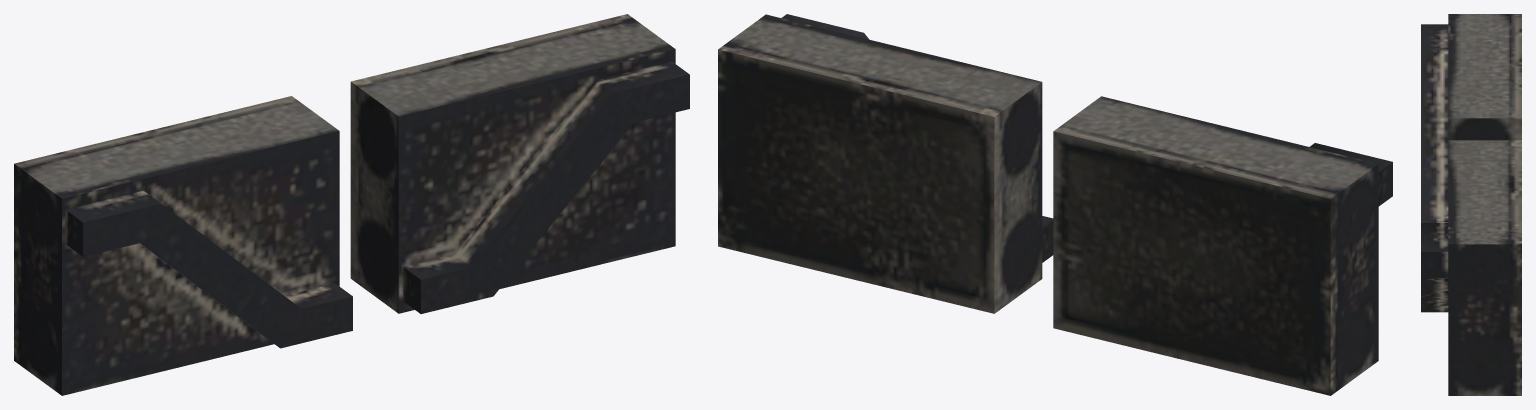
3 views of the same model, side by side, from view 1: azimuth 30°, elevation 25°; view 2: azimuth 150°, elevation 25°; view 3: azimuth 270°, elevation 25° (orthographic). The views are drawn at different scales.
Parts seen in each view (by area): view 1: set_0_group_0; view 2: set_0_group_0; view 3: set_0_group_0.
Part boxes in pixels (box(x1,y1,x2,y2)): set_0_group_0: box(14, 14, 689, 395); set_0_group_0: box(718, 14, 1392, 395); set_0_group_0: box(1421, 14, 1521, 395).
Size of the model in its own units: 0.4785 by 0.147 by 0.0887.
Materials: 1 (1 with a texture image).
